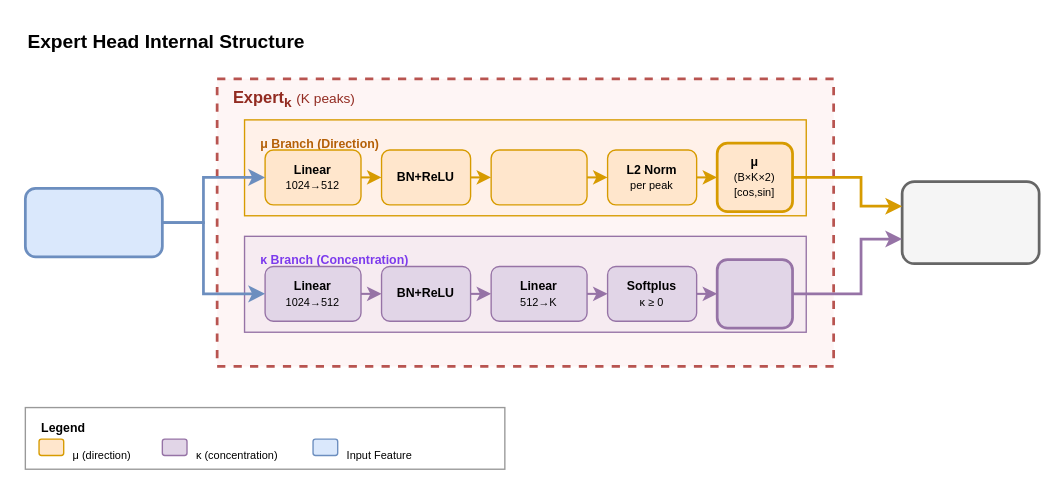
Image size: 1063x493. Some labels were removed from this diagram. Each missing label, with the box of its shape:
Global Feature (B × 1024): (23, 186, 163, 258)
Linear 512→2K: (490, 149, 587, 205)
Output K von Mises (μ₁,κ₁)...(μₖ,κₖ): (900, 179, 1040, 264)
κ (B×K) κ>0: (715, 258, 793, 329)
